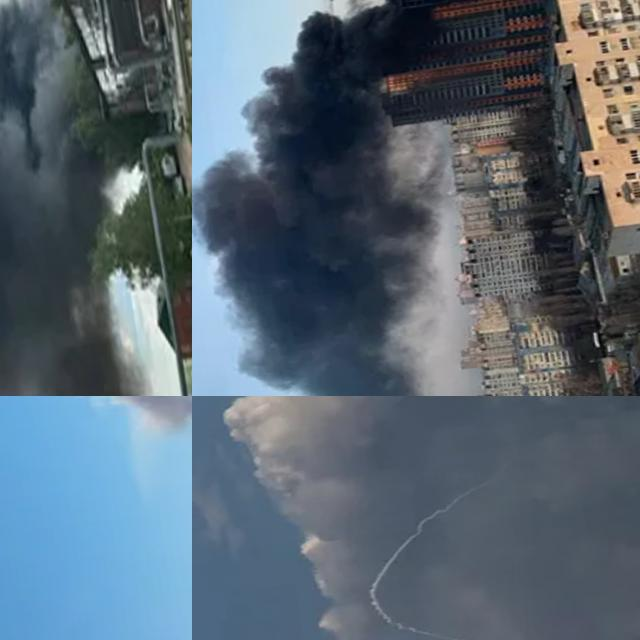smoke: (192, 0, 482, 396), (194, 396, 640, 640), (0, 0, 153, 396), (20, 396, 192, 458)
